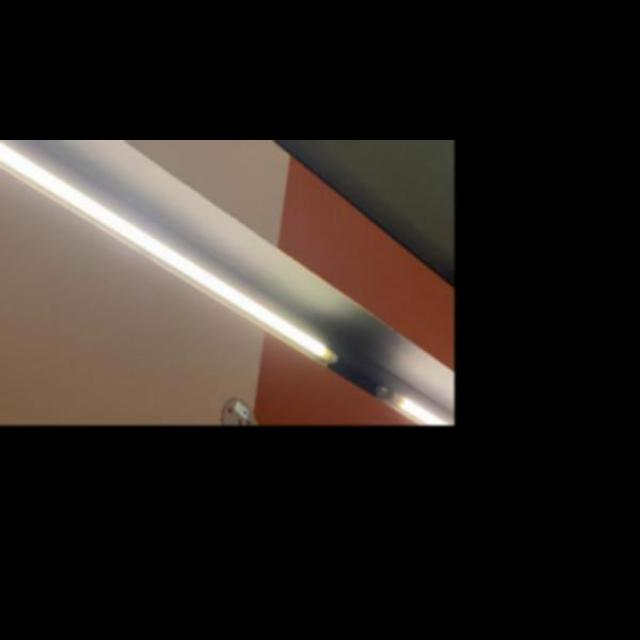Straight-Tube-Fluorescent-Lamp: (0, 140, 350, 384), (392, 372, 454, 426)
